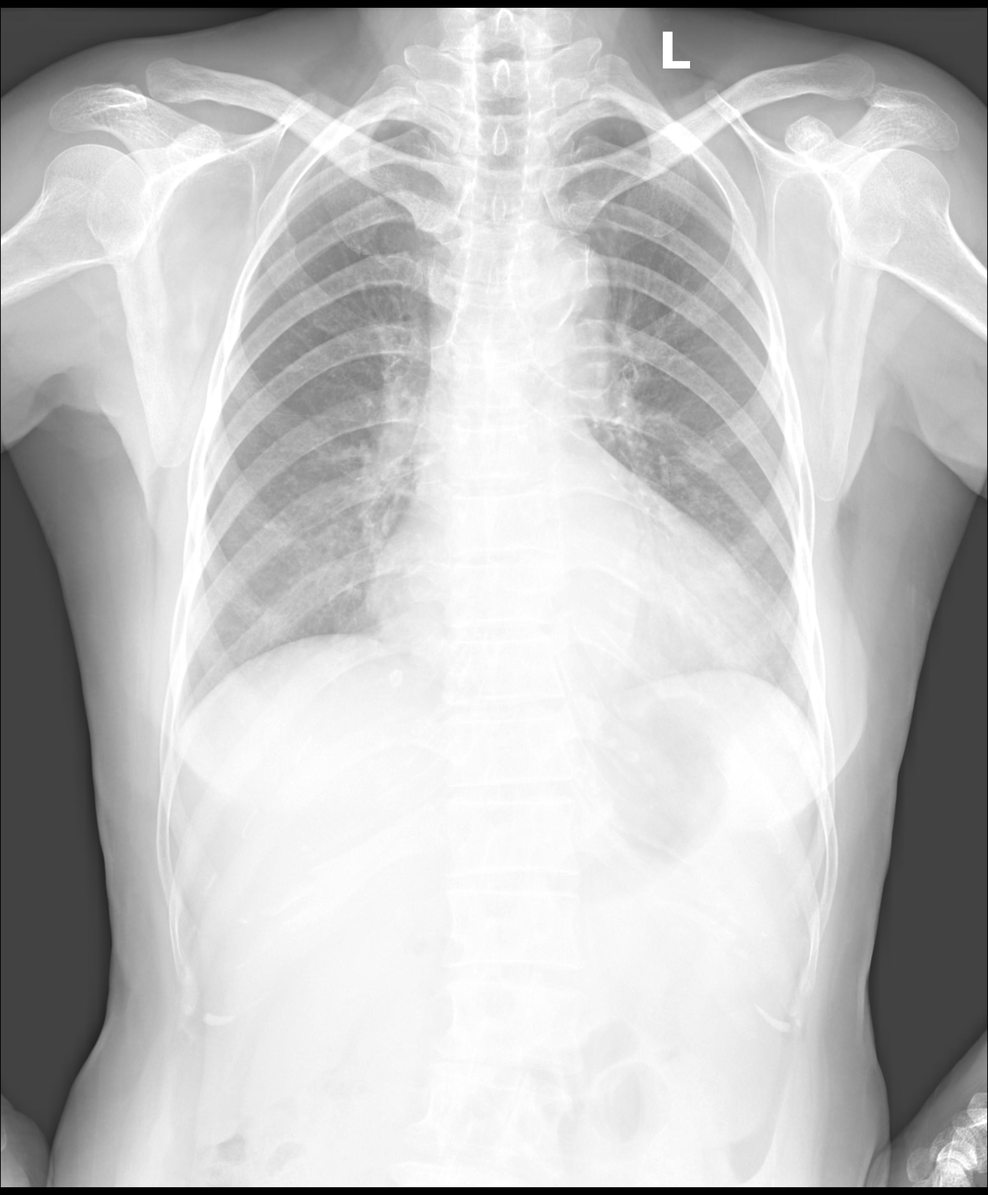Aortic enlargement: (494, 230, 619, 365)
Cardiomegaly: (354, 545, 780, 699)
